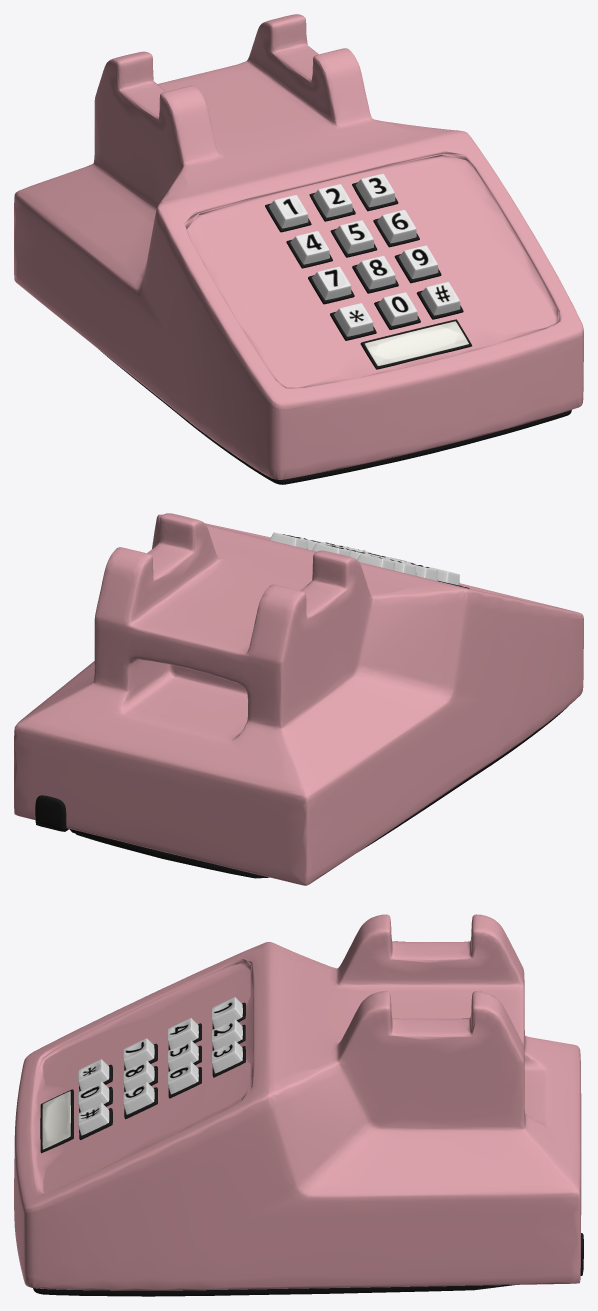
The model's file is phone_bottom.fbx.
3 views of the same model, one above another, from view 1: azimuth 30°, elevation 25°; view 2: azimuth 150°, elevation 25°; view 3: azimuth 270°, elevation 25° (orthographic). The views are drawn at different scales.
Parts seen in each view (by area): view 1: Cube; view 2: Cube; view 3: Cube.
Part boxes in pixels (<box>): Cube: <box>14,14,583,484</box>; Cube: <box>14,513,583,885</box>; Cube: <box>14,914,583,1296</box>.
Size of the model in its own units: 18.77 by 14.23 by 28.1.
Materials: 4 (1 with a texture image).
